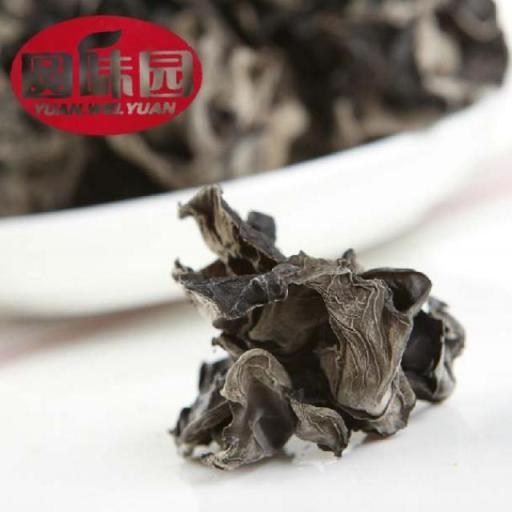Wood Ear Mushroom: (163, 182, 466, 466)
